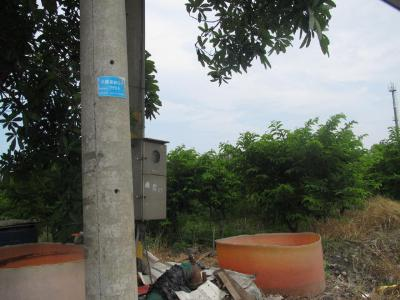bucket: (214, 231, 326, 298)
